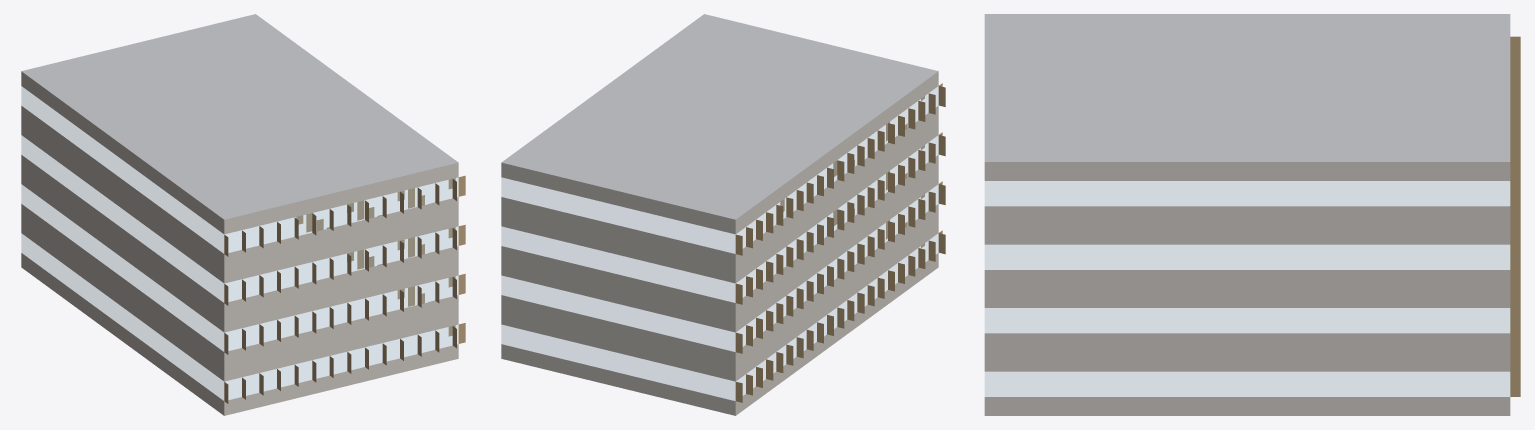
3 views of the same model, side by side, from view 1: azimuth 30°, elevation 25°; view 2: azimuth 150°, elevation 25°; view 3: azimuth 270°, elevation 25° (orthographic). The views are drawn at different scales.
Visible parts, largest first — view 1: Dinding Bata, Atap Beton, Kaca Jendela, Peneduh Sirip; view 2: Dinding Bata, Atap Beton, Kaca Jendela, Peneduh Sirip; view 3: Dinding Bata, Atap Beton, Kaca Jendela, Peneduh Sirip.
Boxes of the visible parts, left/top/right/bottom form: Dinding Bata: left=21, top=71, right=458, bottom=415; Atap Beton: left=21, top=14, right=458, bottom=219; Kaca Jendela: left=21, top=86, right=458, bottom=400; Peneduh Sirip: left=224, top=175, right=465, bottom=403; Dinding Bata: left=501, top=71, right=938, bottom=415; Atap Beton: left=501, top=14, right=938, bottom=219; Kaca Jendela: left=501, top=86, right=938, bottom=400; Peneduh Sirip: left=735, top=83, right=945, bottom=402; Dinding Bata: left=984, top=162, right=1510, bottom=415; Atap Beton: left=984, top=14, right=1510, bottom=161; Kaca Jendela: left=985, top=181, right=1509, bottom=396; Peneduh Sirip: left=1510, top=36, right=1520, bottom=396.
Bounding box in the file's own units: 21.2 × 16 × 31.2.
